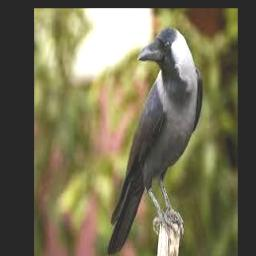Crow: (107, 26, 202, 255)
